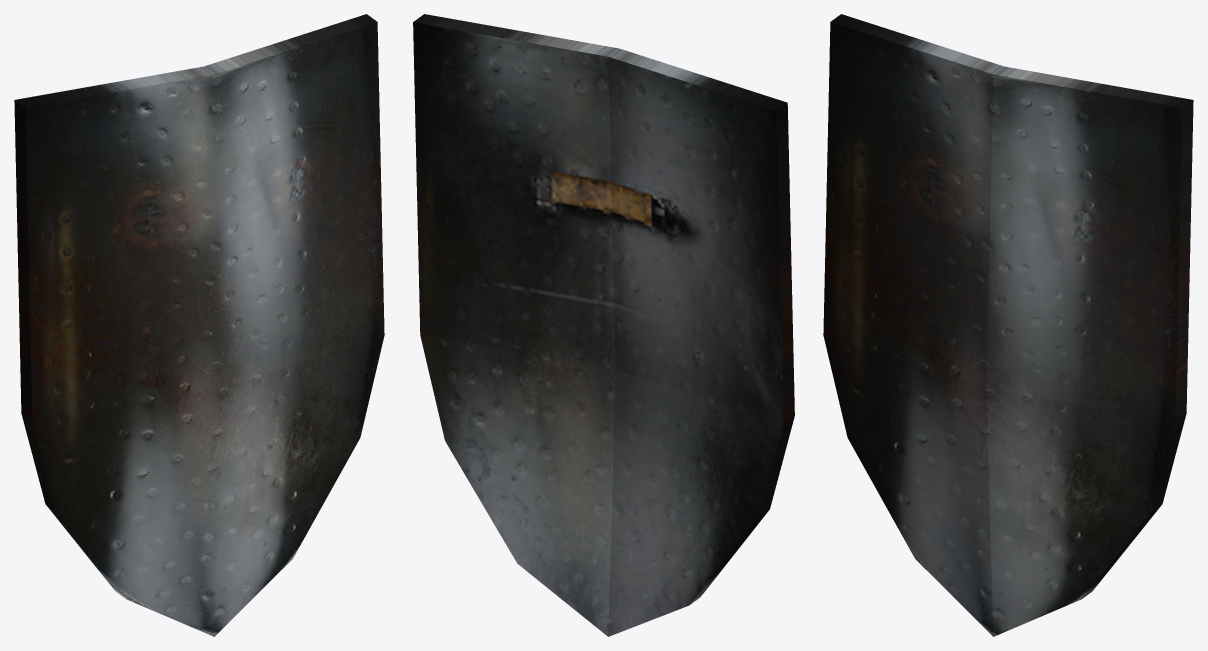
Rendered from Iron Shield.fbx.
3 views of the same model, side by side, from view 1: azimuth 30°, elevation 25°; view 2: azimuth 150°, elevation 25°; view 3: azimuth 330°, elevation 25° (orthographic). The views are drawn at different scales.
Visible parts, largest first — view 1: Iron Shield; view 2: Iron Shield; view 3: Iron Shield.
Boxes of the visible parts, x1=… form: Iron Shield: x1=14, y1=14, x2=384, y2=636; Iron Shield: x1=413, y1=14, x2=794, y2=636; Iron Shield: x1=823, y1=14, x2=1193, y2=636.
Size of the model in its own units: 0.4251 by 0.6485 by 0.0644.
